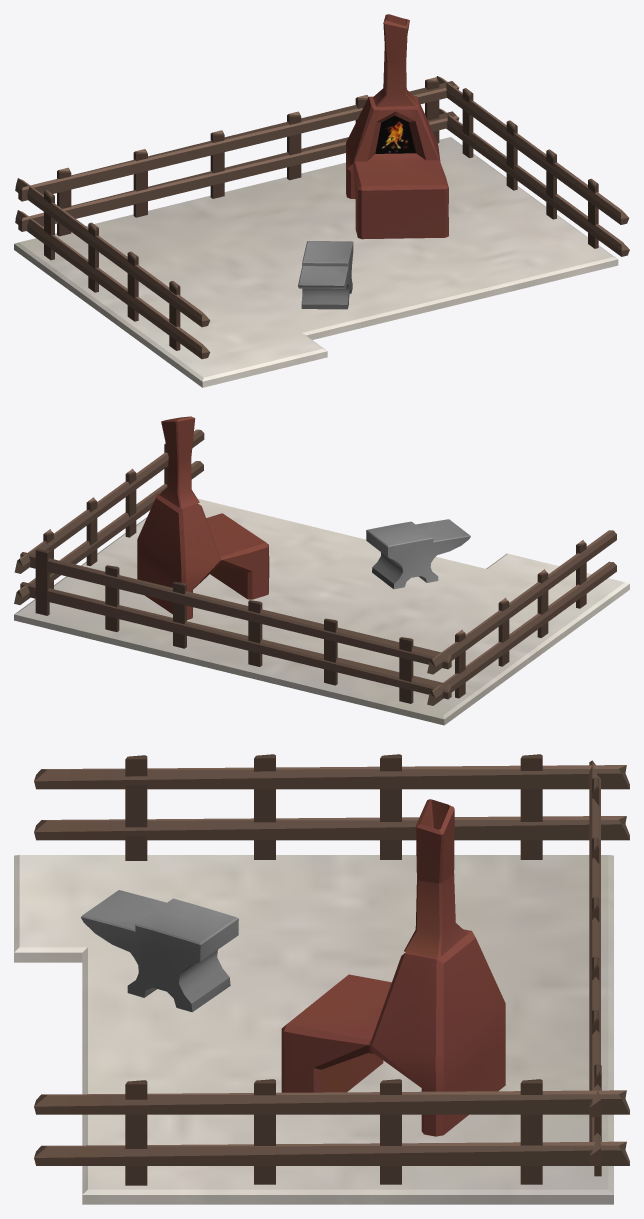
The model's file is blacksmith_0lvl.fbx.
The picture shows the model from 3 angles, top to bottom: view 1: azimuth 30°, elevation 25°; view 2: azimuth 150°, elevation 25°; view 3: azimuth 270°, elevation 25°; orthographic projection. The views are drawn at different scales.
Visible parts, largest first — view 1: blacksmith_0lvl; view 2: blacksmith_0lvl; view 3: blacksmith_0lvl.
Part boxes in pixels (x1,y1,x2,y2): blacksmith_0lvl: [14, 14, 629, 387]; blacksmith_0lvl: [14, 416, 629, 725]; blacksmith_0lvl: [14, 754, 629, 1204].
Bounding box in the file's own units: 6.01 × 2.56 × 4.6.
